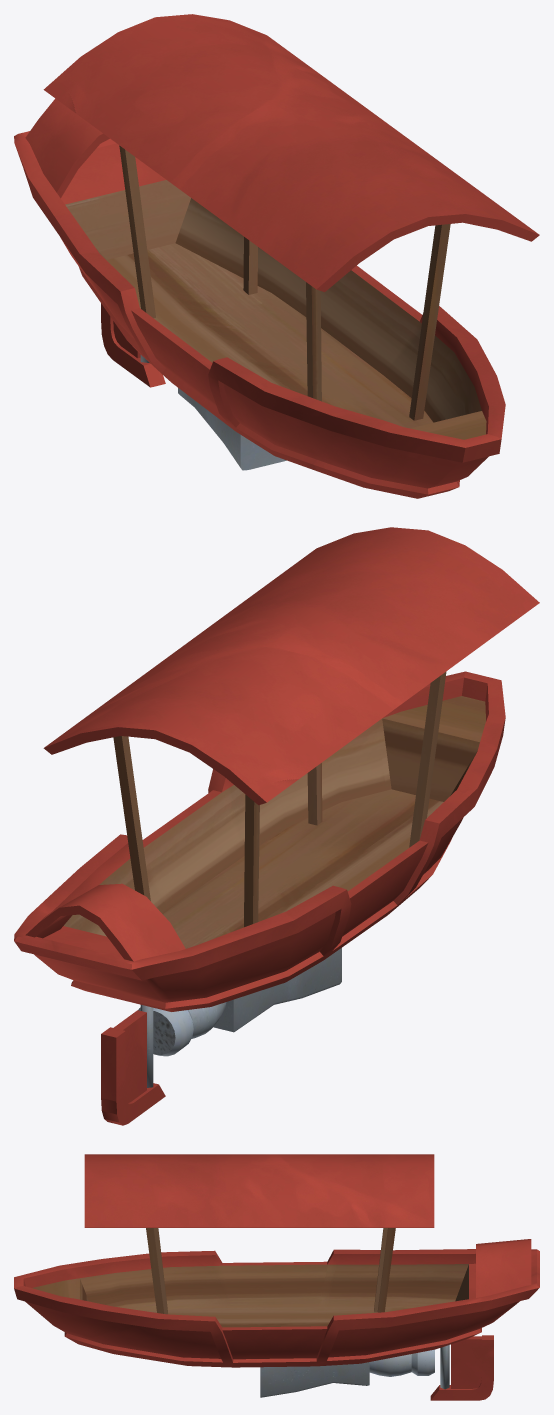
File: vehicle_boat_01.FBX
3 renders of one model, top to bottom at view 1: azimuth 30°, elevation 25°; view 2: azimuth 150°, elevation 25°; view 3: azimuth 270°, elevation 25°, orthographic. The views are drawn at different scales.
Visible parts, largest first — view 1: HoverBoat; view 2: HoverBoat; view 3: HoverBoat.
Boxes of the visible parts, x1,y1,x2,y2 form: HoverBoat: (14, 14, 539, 498); HoverBoat: (14, 527, 539, 1125); HoverBoat: (14, 1154, 539, 1400).
Size of the model in its own units: 5.09 by 7.86 by 15.98.
